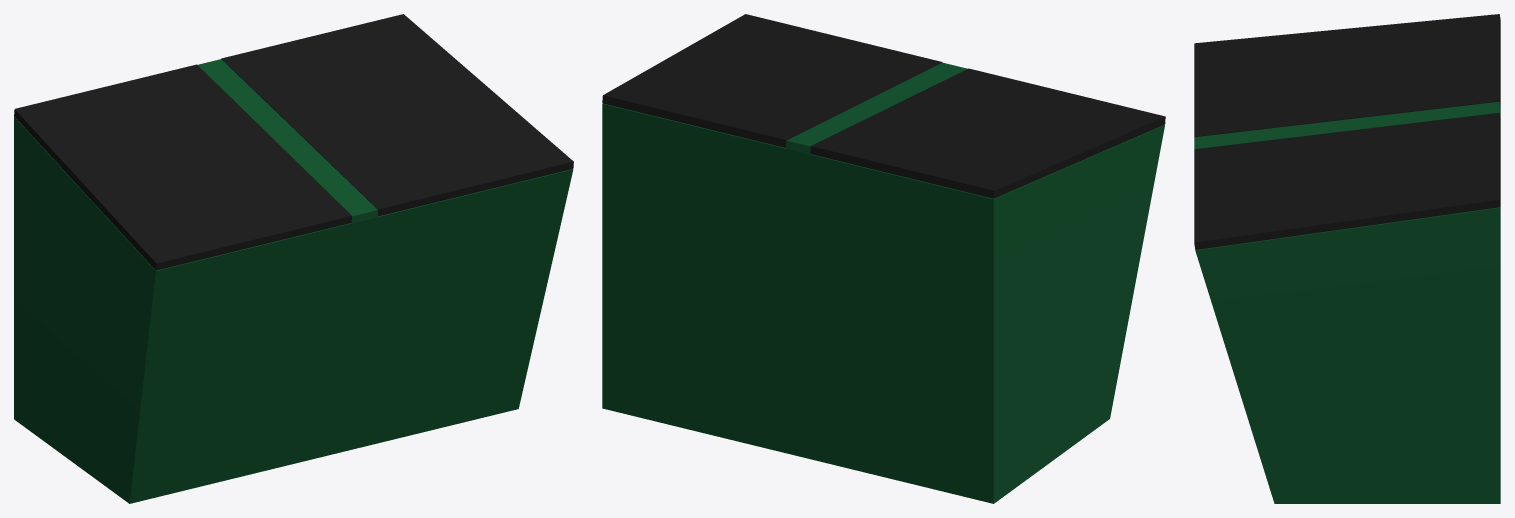
The model's file is dumpster.fbx.
3 renders of one model, left to right at view 1: azimuth 30°, elevation 25°; view 2: azimuth 150°, elevation 25°; view 3: azimuth 270°, elevation 25°, orthographic. The views are drawn at different scales.
Visible parts, largest first — view 1: Body, Lid(Static), Lid(Dynamic); view 2: Body, Lid(Static), Lid(Dynamic); view 3: Body, Lid(Dynamic), Lid(Static).
Boxes of the visible parts, x1=… form: Body: x1=14, y1=59, x2=573, y2=503; Lid(Static): x1=14, y1=64, x2=351, y2=270; Lid(Dynamic): x1=221, y1=14, x2=573, y2=216; Body: x1=602, y1=62, x2=1164, y2=503; Lid(Static): x1=810, y1=68, x2=1165, y2=198; Lid(Dynamic): x1=602, y1=14, x2=942, y2=147; Body: x1=1194, y1=101, x2=1500, y2=503; Lid(Dynamic): x1=1194, y1=112, x2=1500, y2=249; Lid(Static): x1=1194, y1=14, x2=1500, y2=137.
Bounding box in the file's own units: 417 × 297 × 271.
